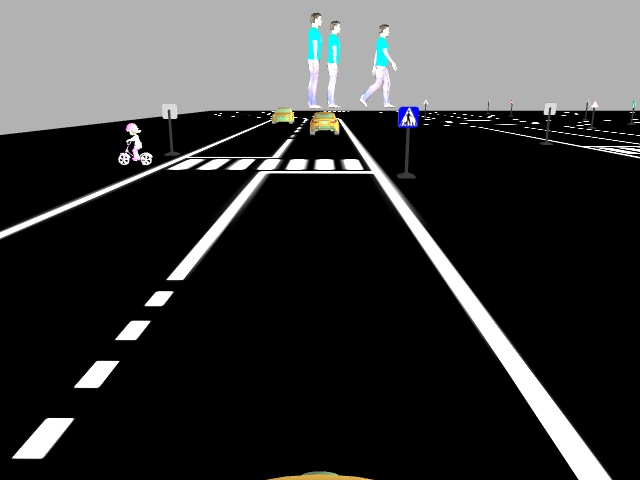Crosswalk: (396, 105, 419, 128)
Pedestrian: (118, 123, 154, 167)
